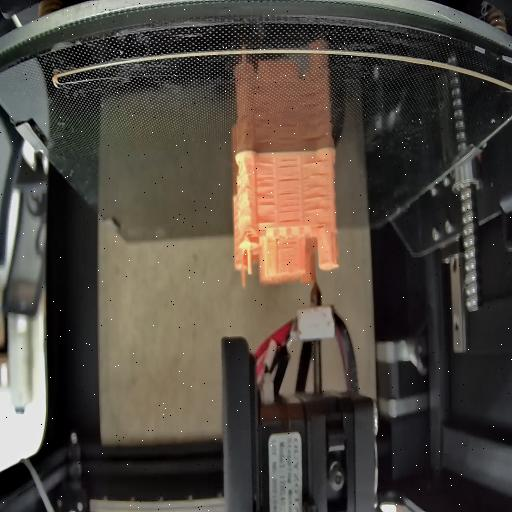cracks: (302, 160, 332, 214), (278, 158, 300, 223), (253, 160, 273, 208), (278, 240, 298, 252), (256, 220, 274, 228), (312, 222, 326, 232)
